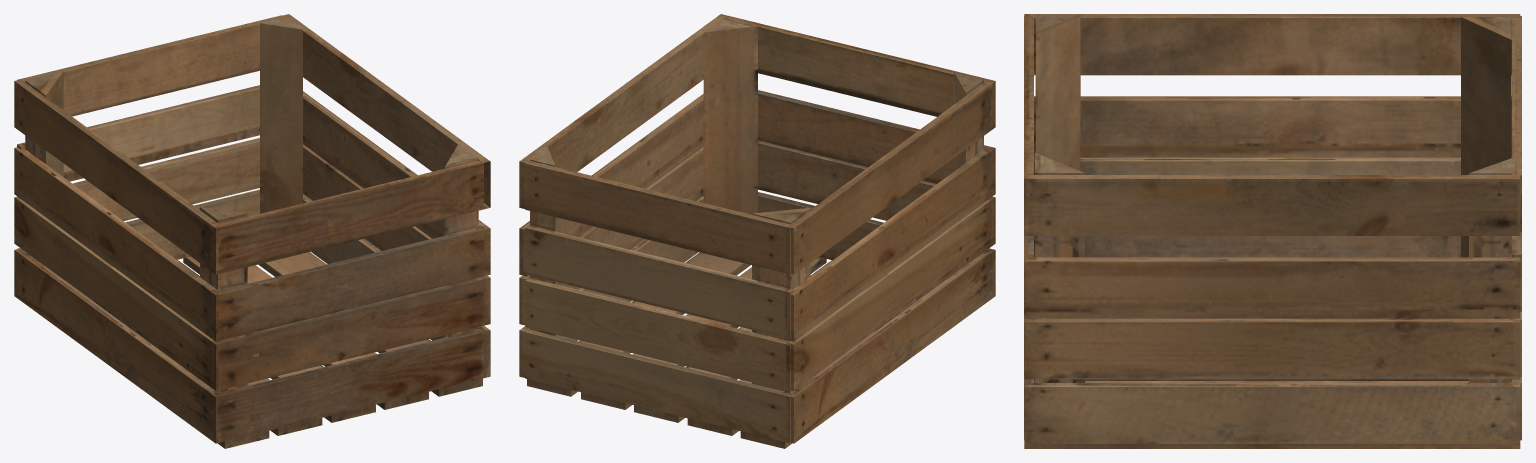
File: OU_AR_Wood_Box_01_D.fbx
The picture shows the model from 3 angles, left to right: view 1: azimuth 30°, elevation 25°; view 2: azimuth 150°, elevation 25°; view 3: azimuth 270°, elevation 25°; orthographic projection. The views are drawn at different scales.
Visible parts, largest first — view 1: Box1593; view 2: Box1593; view 3: Box1593.
Part boxes in pixels (<box>): Box1593: <box>14,14,490,448</box>; Box1593: <box>519,14,995,448</box>; Box1593: <box>1024,14,1521,448</box>.
Size of the model in its own units: 39.87 by 31.31 by 50.79.
Materials: 1 (1 with a texture image).
